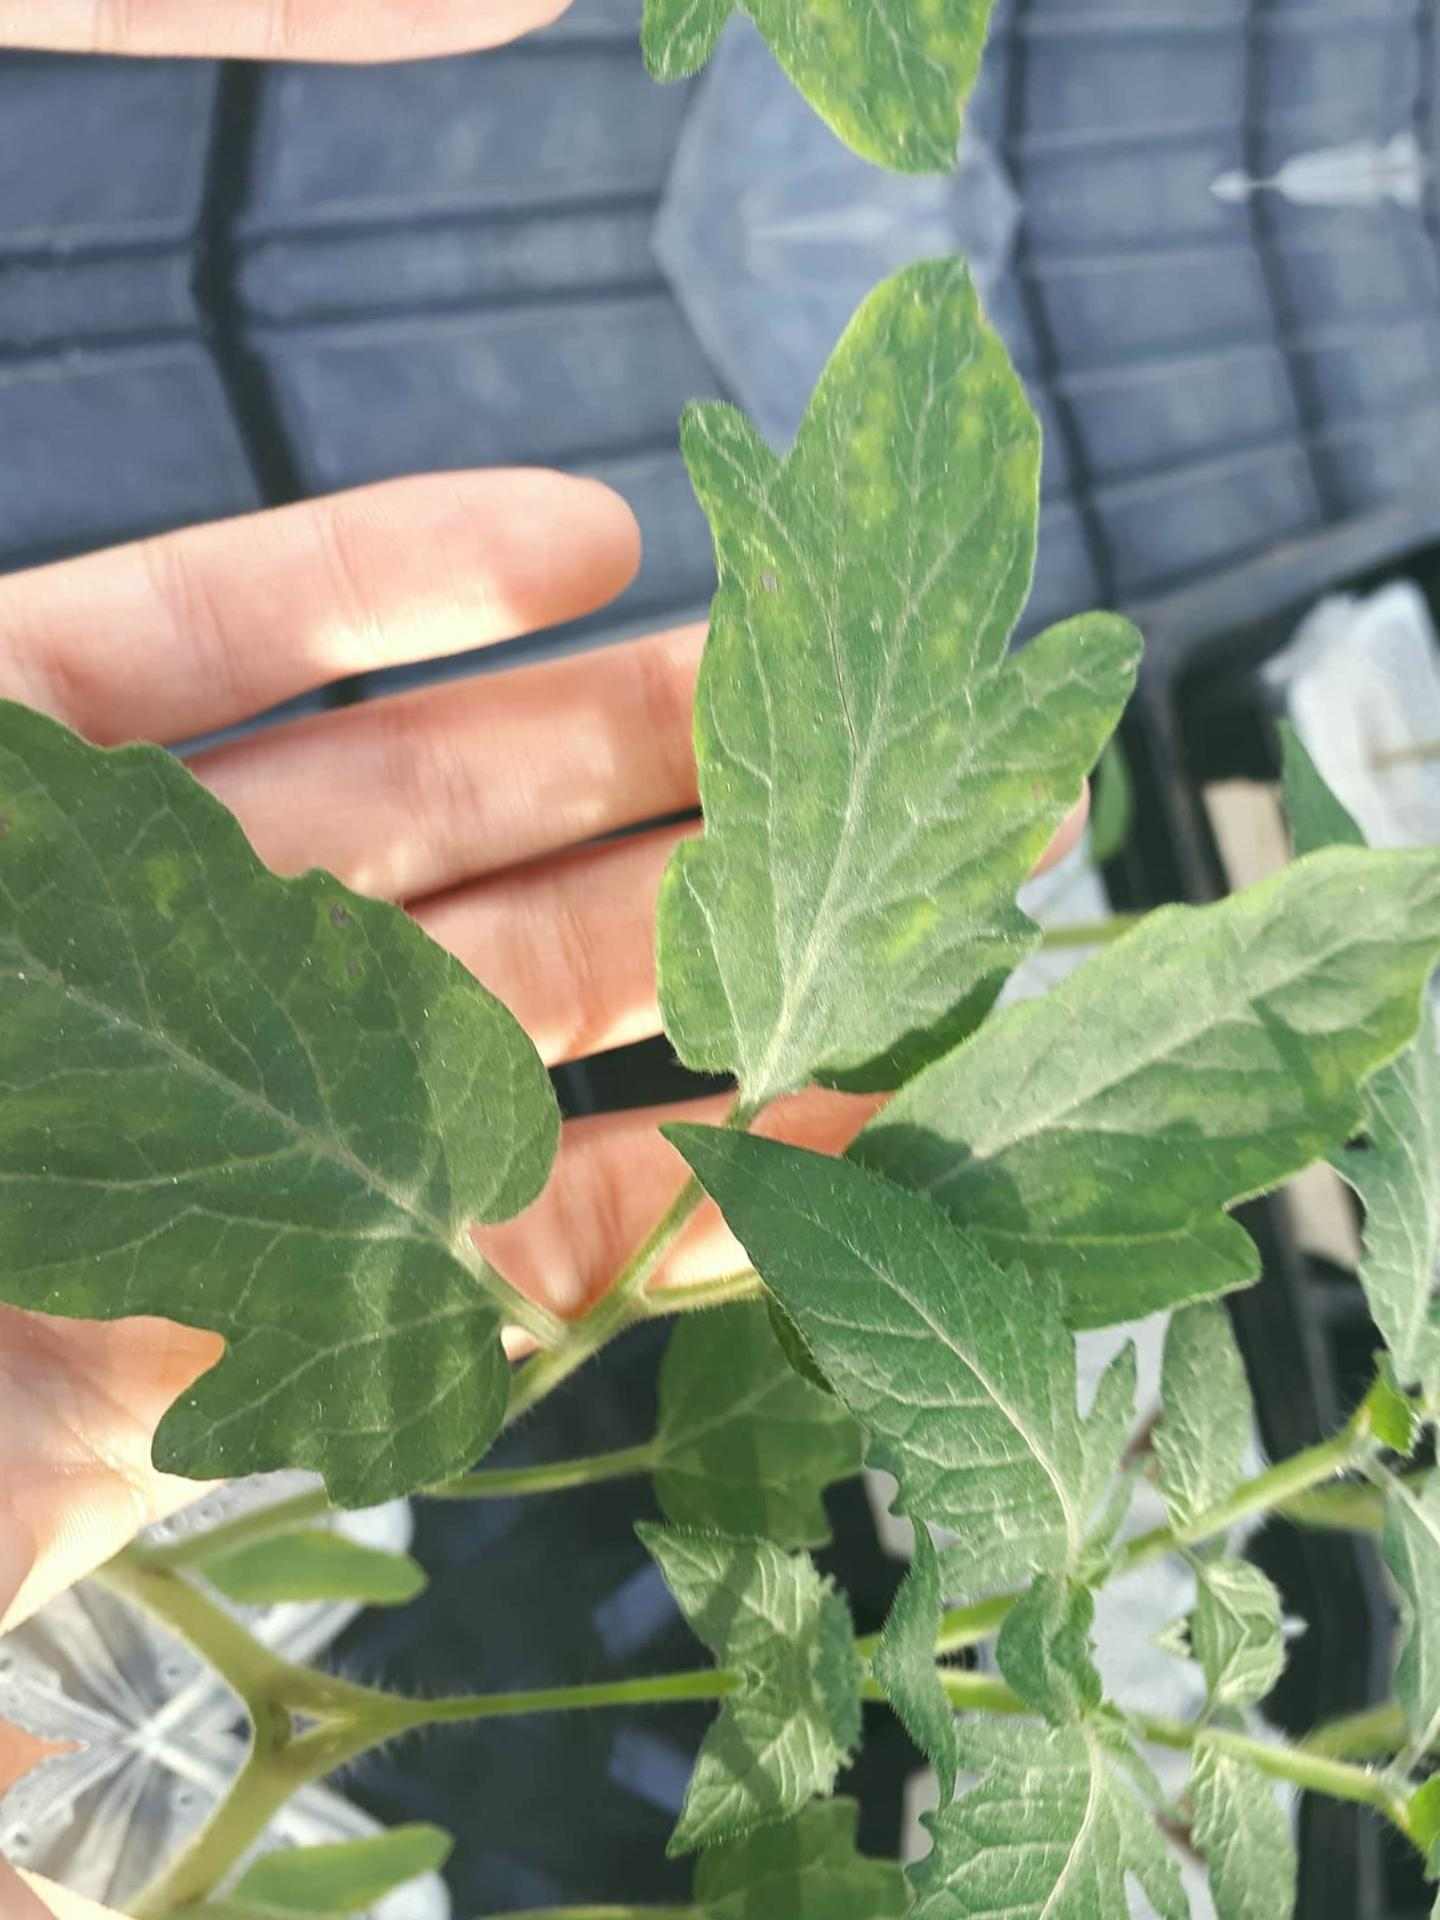Tomato mold leaf: (0, 562, 620, 1571), (611, 198, 1212, 1132), (619, 1070, 1159, 1633)
